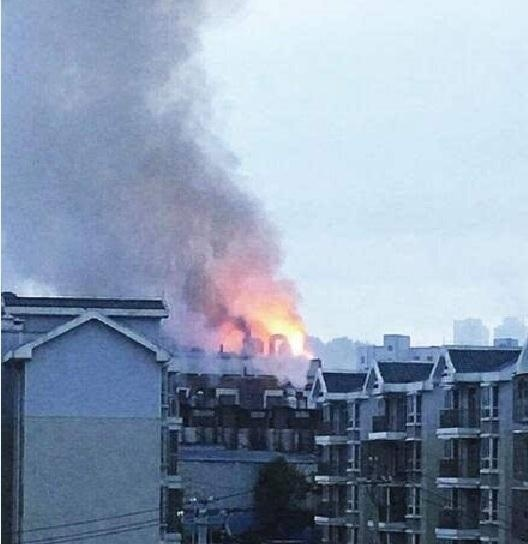fire: (216, 293, 306, 354)
